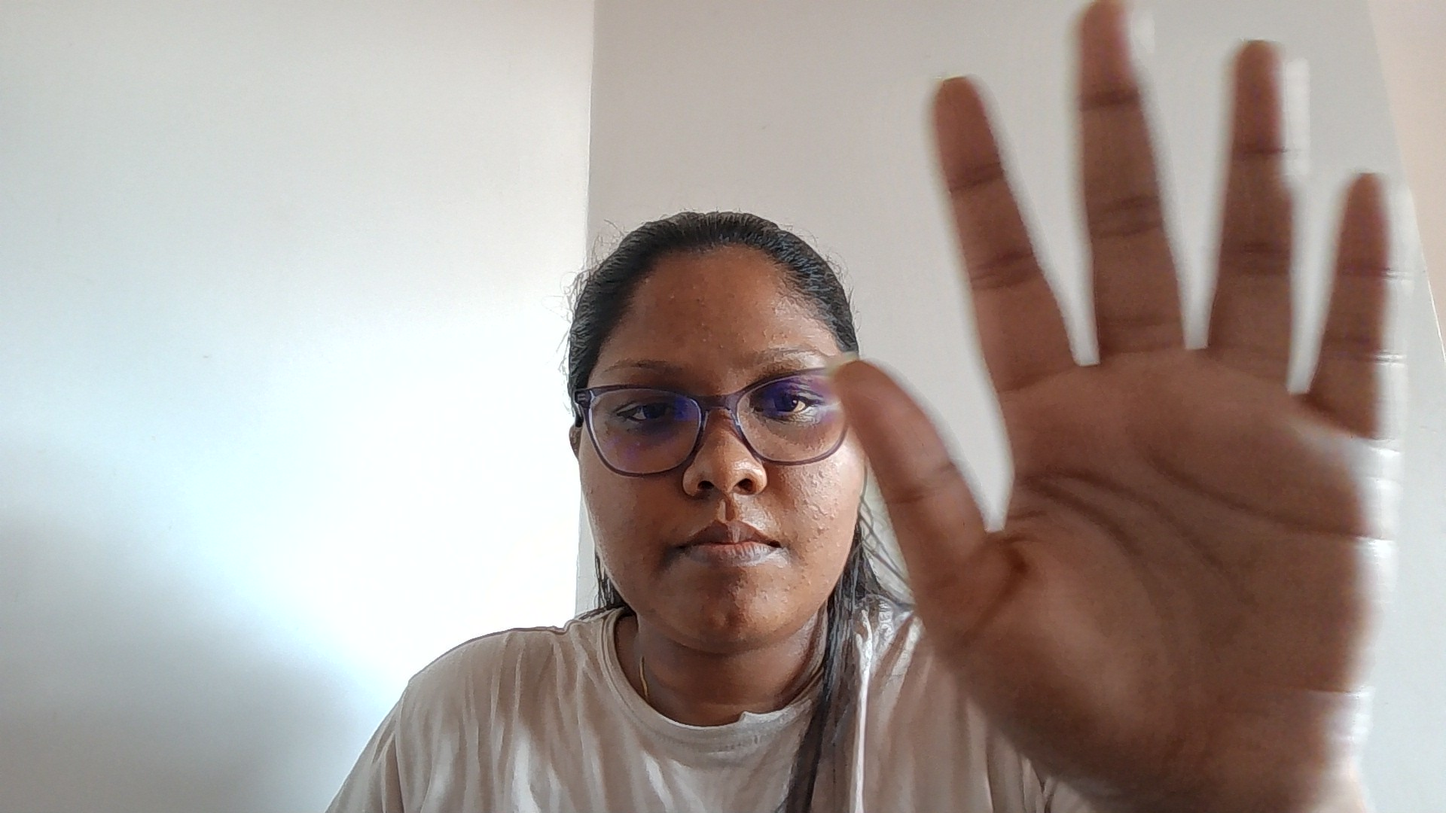Hello: (787, 0, 1446, 806)
